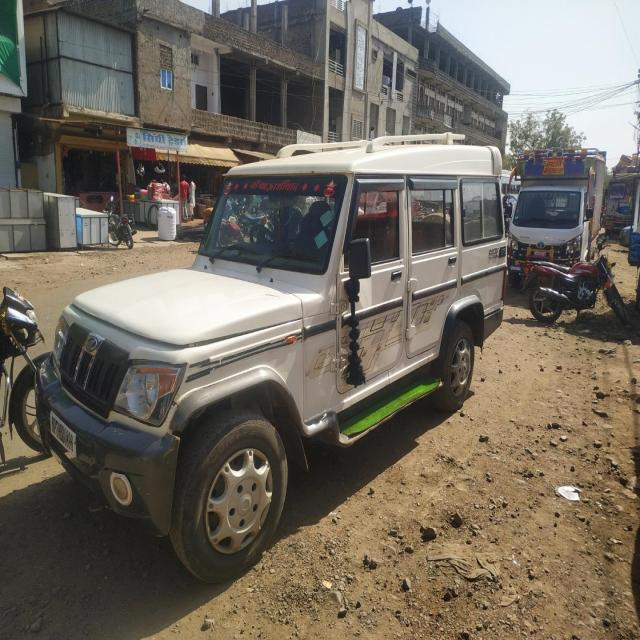light_vehicle: (34, 149, 504, 510)
